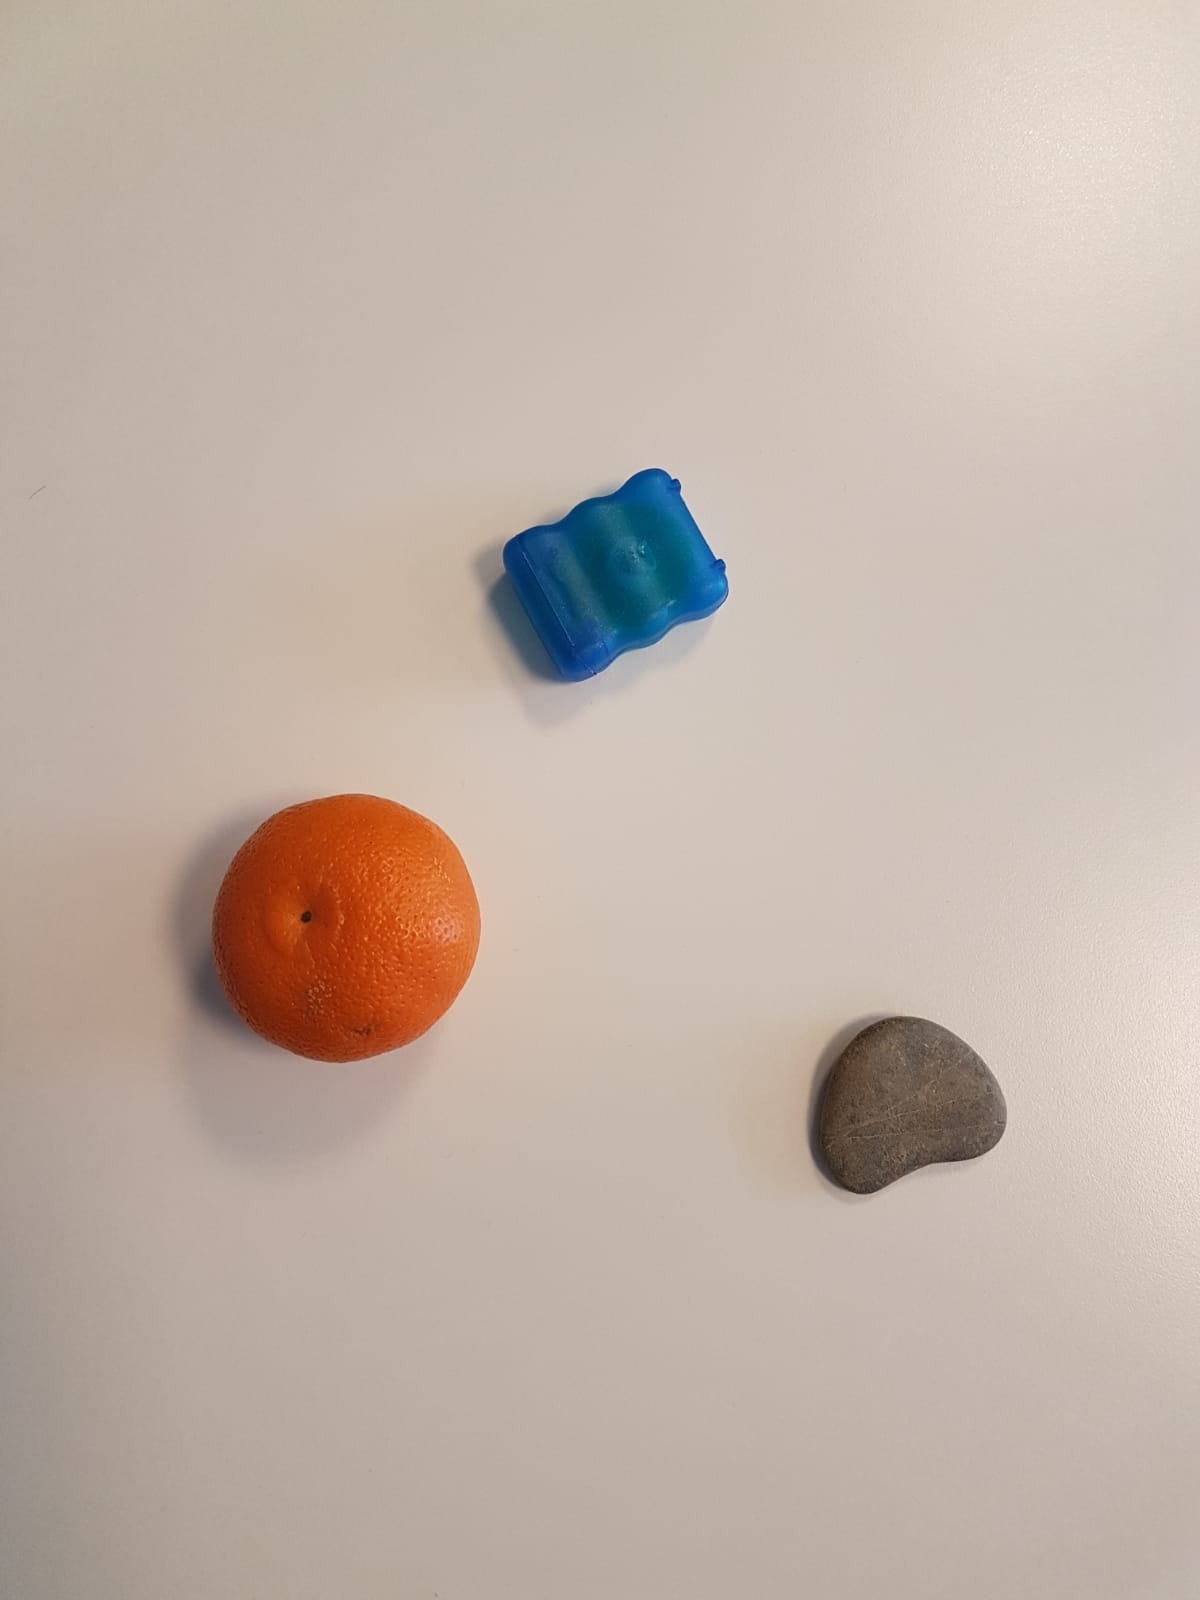Box: (500, 466, 736, 687)
Orange: (207, 797, 479, 1067)
Stone: (811, 1015, 1008, 1196)
